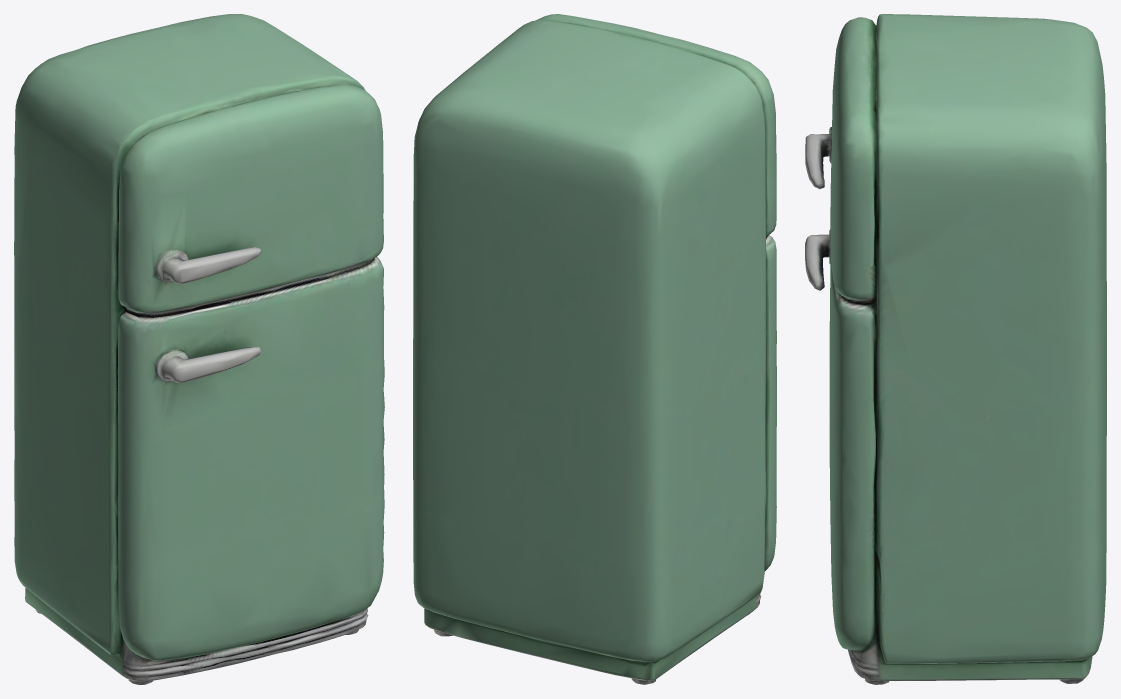
Rendered from fridge.glb.
3 views of the same model, side by side, from view 1: azimuth 30°, elevation 25°; view 2: azimuth 150°, elevation 25°; view 3: azimuth 270°, elevation 25° (orthographic). The views are drawn at different scales.
Parts seen in each view (by area): view 1: fridge-node; view 2: fridge-node; view 3: fridge-node.
Boxes of the visible parts, <box> form: fridge-node: <box>14,14,384,684</box>; fridge-node: <box>413,14,776,684</box>; fridge-node: <box>805,14,1106,684</box>.
Bounding box in the file's own units: 0.4901 × 1 × 0.4783.
1 material, 1 textured.
